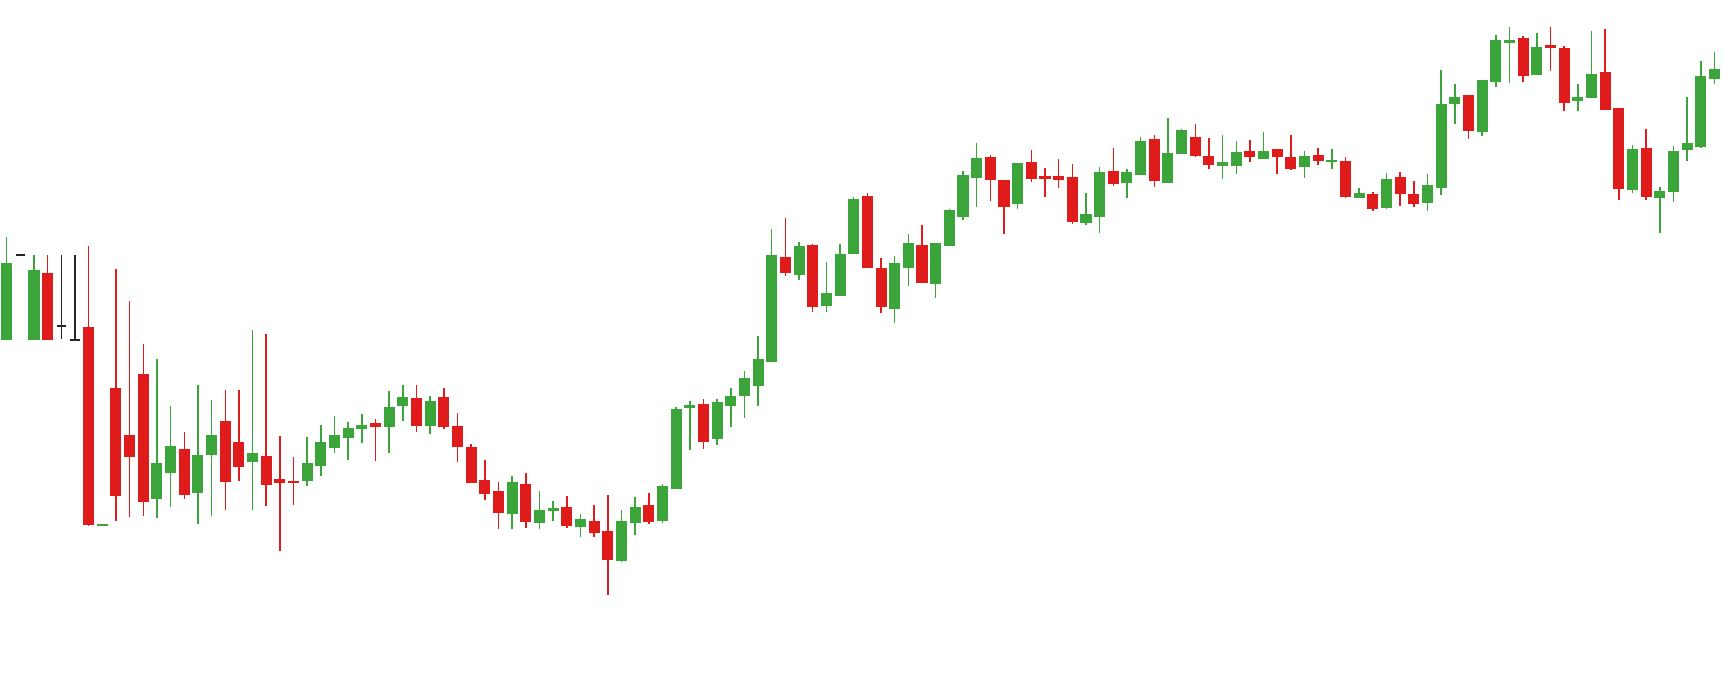buy: (807, 252, 901, 322)
